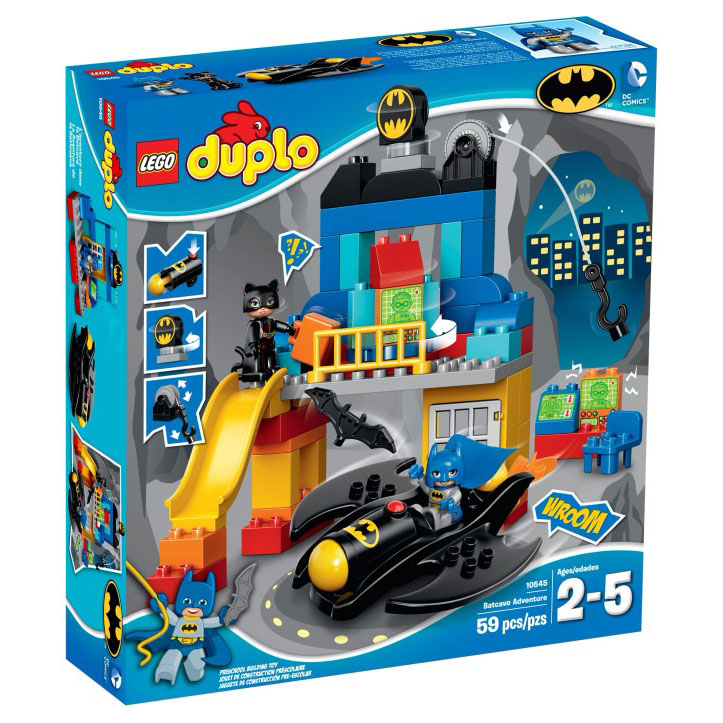LEGO: (129, 132, 185, 196)
